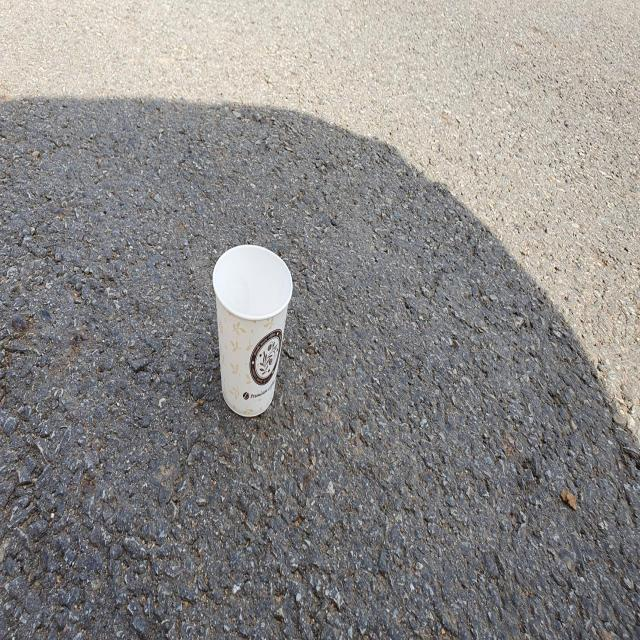paperpack: (212, 244, 293, 416)
